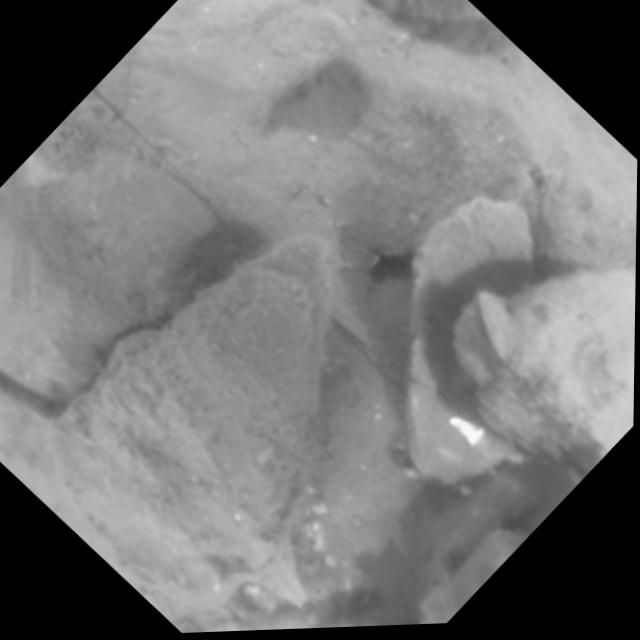Oyster-Closed: (77, 255, 328, 602), (381, 0, 489, 22)
Oyster-Indeterminate: (92, 0, 533, 254), (0, 167, 211, 405), (427, 52, 637, 268), (402, 196, 529, 486), (458, 267, 636, 458), (417, 529, 521, 624), (184, 610, 311, 632)
